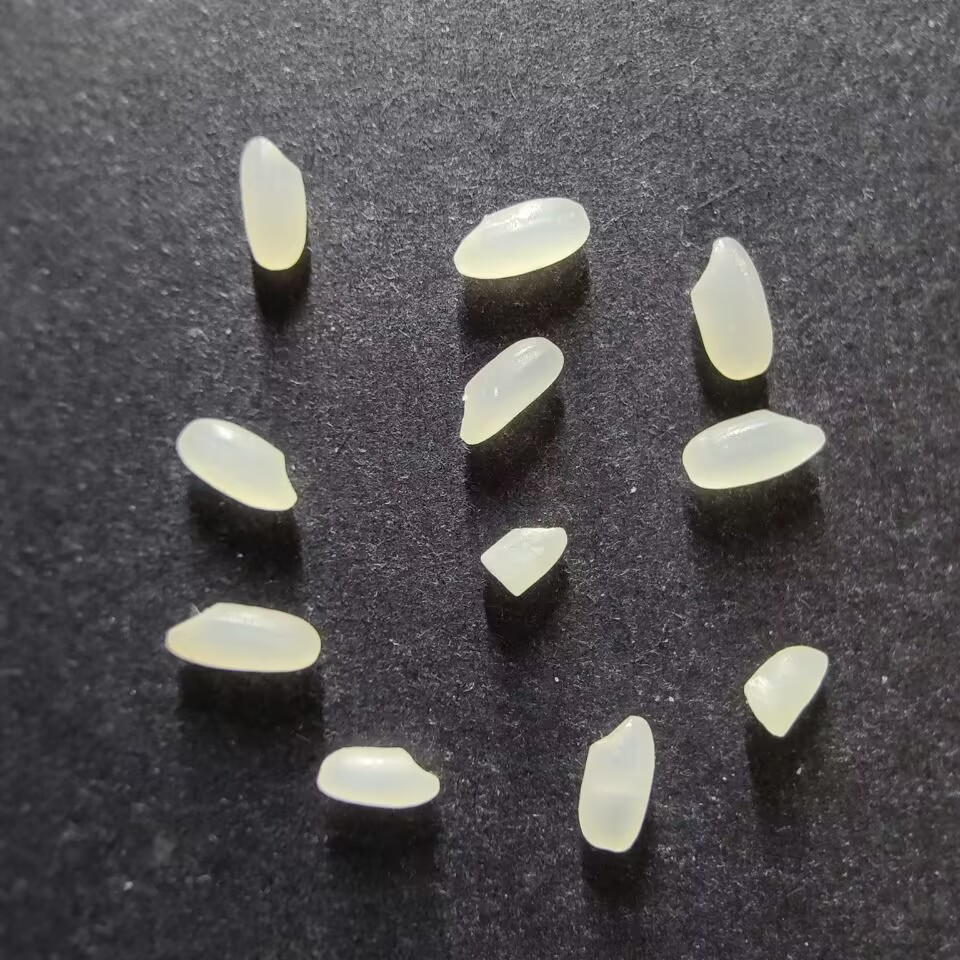broken: (742, 643, 828, 738), (478, 525, 568, 598)
rice: (688, 236, 774, 380), (680, 408, 826, 489), (458, 335, 564, 445), (452, 197, 590, 279), (175, 418, 296, 511), (164, 601, 320, 673), (577, 714, 655, 852), (239, 137, 307, 270), (316, 745, 441, 808)
